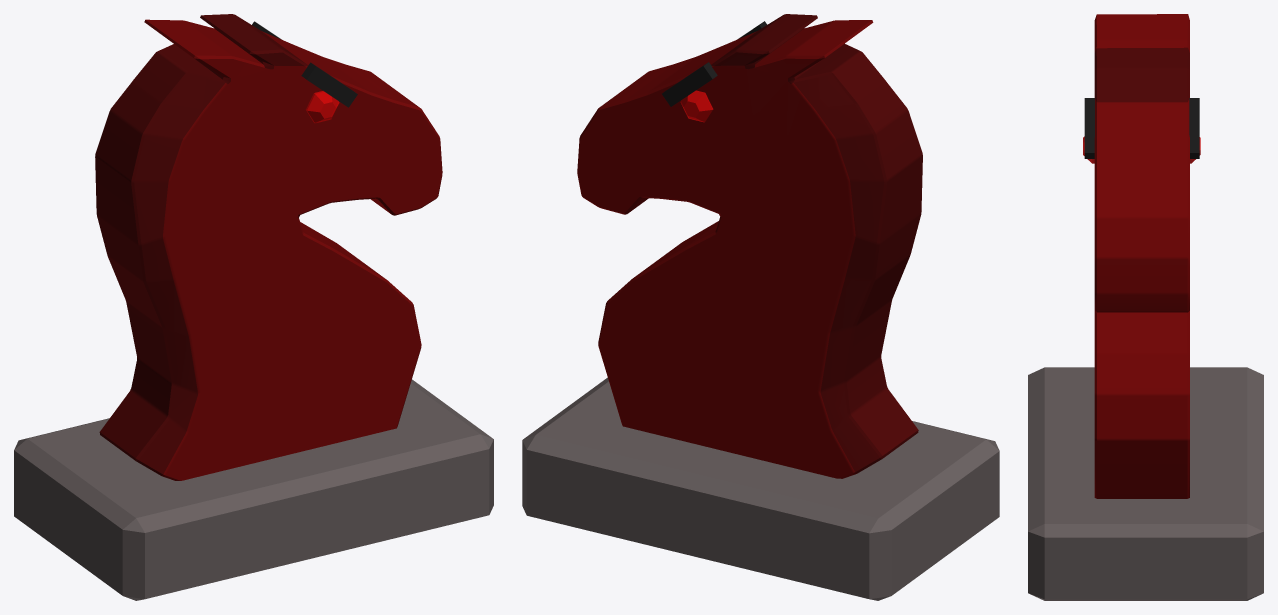
File: Trojan_Horse_System_Assault.fbx
3 views of the same model, side by side, from view 1: azimuth 30°, elevation 25°; view 2: azimuth 150°, elevation 25°; view 3: azimuth 270°, elevation 25° (orthographic). The views are drawn at different scales.
Parts seen in each view (by area): view 1: Trojan_Horse, pCube3; view 2: Trojan_Horse, pCube2; view 3: Trojan_Horse, pCube3, pCube2.
Part boxes in pixels (x1,y1,x2,y2): Trojan_Horse: (14, 14, 493, 600); pCube3: (301, 62, 357, 107); Trojan_Horse: (522, 14, 999, 600); pCube2: (662, 62, 717, 106); Trojan_Horse: (1028, 14, 1263, 600); pCube3: (1084, 98, 1094, 158); pCube2: (1189, 98, 1199, 158).
Size of the model in its own units: 2.76 by 3.57 by 1.63.
